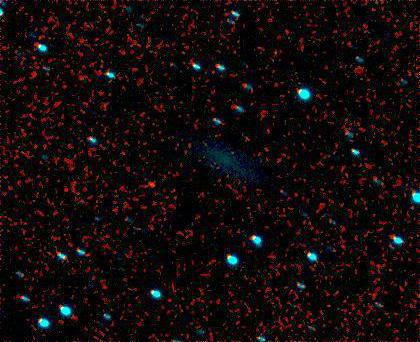star: (137, 170, 167, 200)
